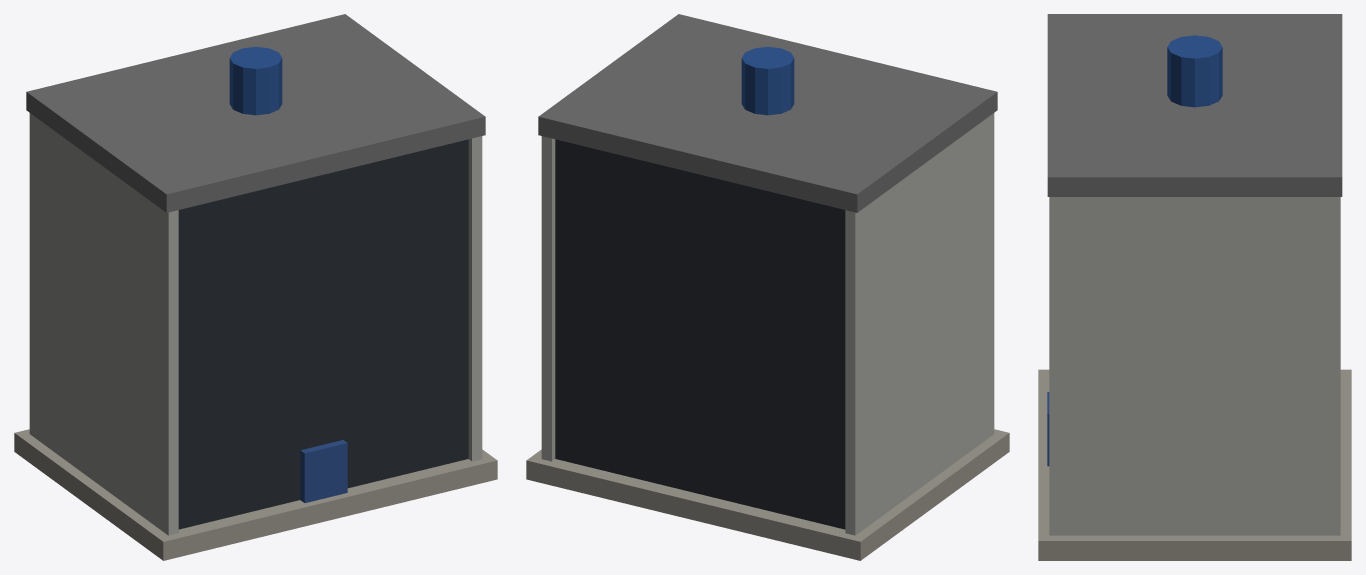
File: bld_residential_a08_lod1.glb
The picture shows the model from 3 angles, left to right: view 1: azimuth 30°, elevation 25°; view 2: azimuth 150°, elevation 25°; view 3: azimuth 270°, elevation 25°; orthographic projection. The views are drawn at different scales.
Visible parts, largest first — view 1: body; view 2: body; view 3: body.
Part boxes in pixels (x1,y1,x2,y2): body: (14,14,497,560); body: (526,14,1009,560); body: (1038,14,1351,560).
Size of the model in its own units: 6.6 by 7.7 by 5.1.
